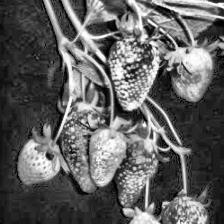Powdery Mildew Fruit: (108, 32, 162, 112), (60, 103, 107, 193), (113, 135, 158, 208), (90, 127, 128, 188), (161, 193, 208, 224), (124, 211, 163, 224)
